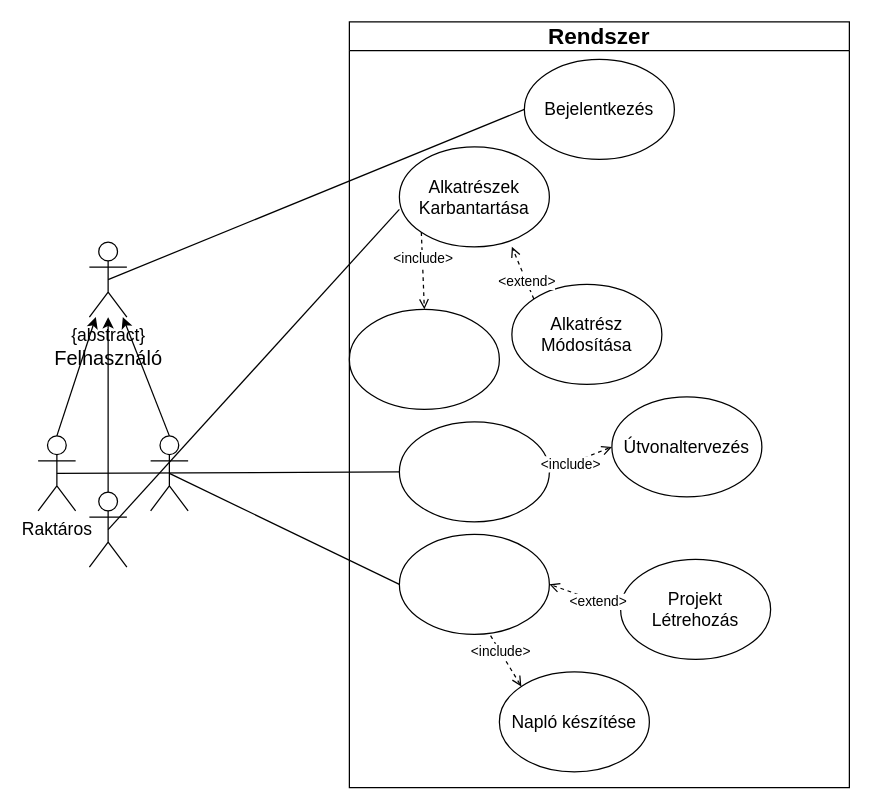
The diagram is 871 pixels wide and 810 high, and some of its shapes have lost their labels. The centre of each missing label's shape, as x and y in pixels:
Alkatrész Felvétele: the point at 423,358
Projektek Karbantartása: the point at 473,583
Raktár Karbantartása: the point at 473,471
Raktárvezetö: the point at 107,529
Szakember: the point at 168,473
